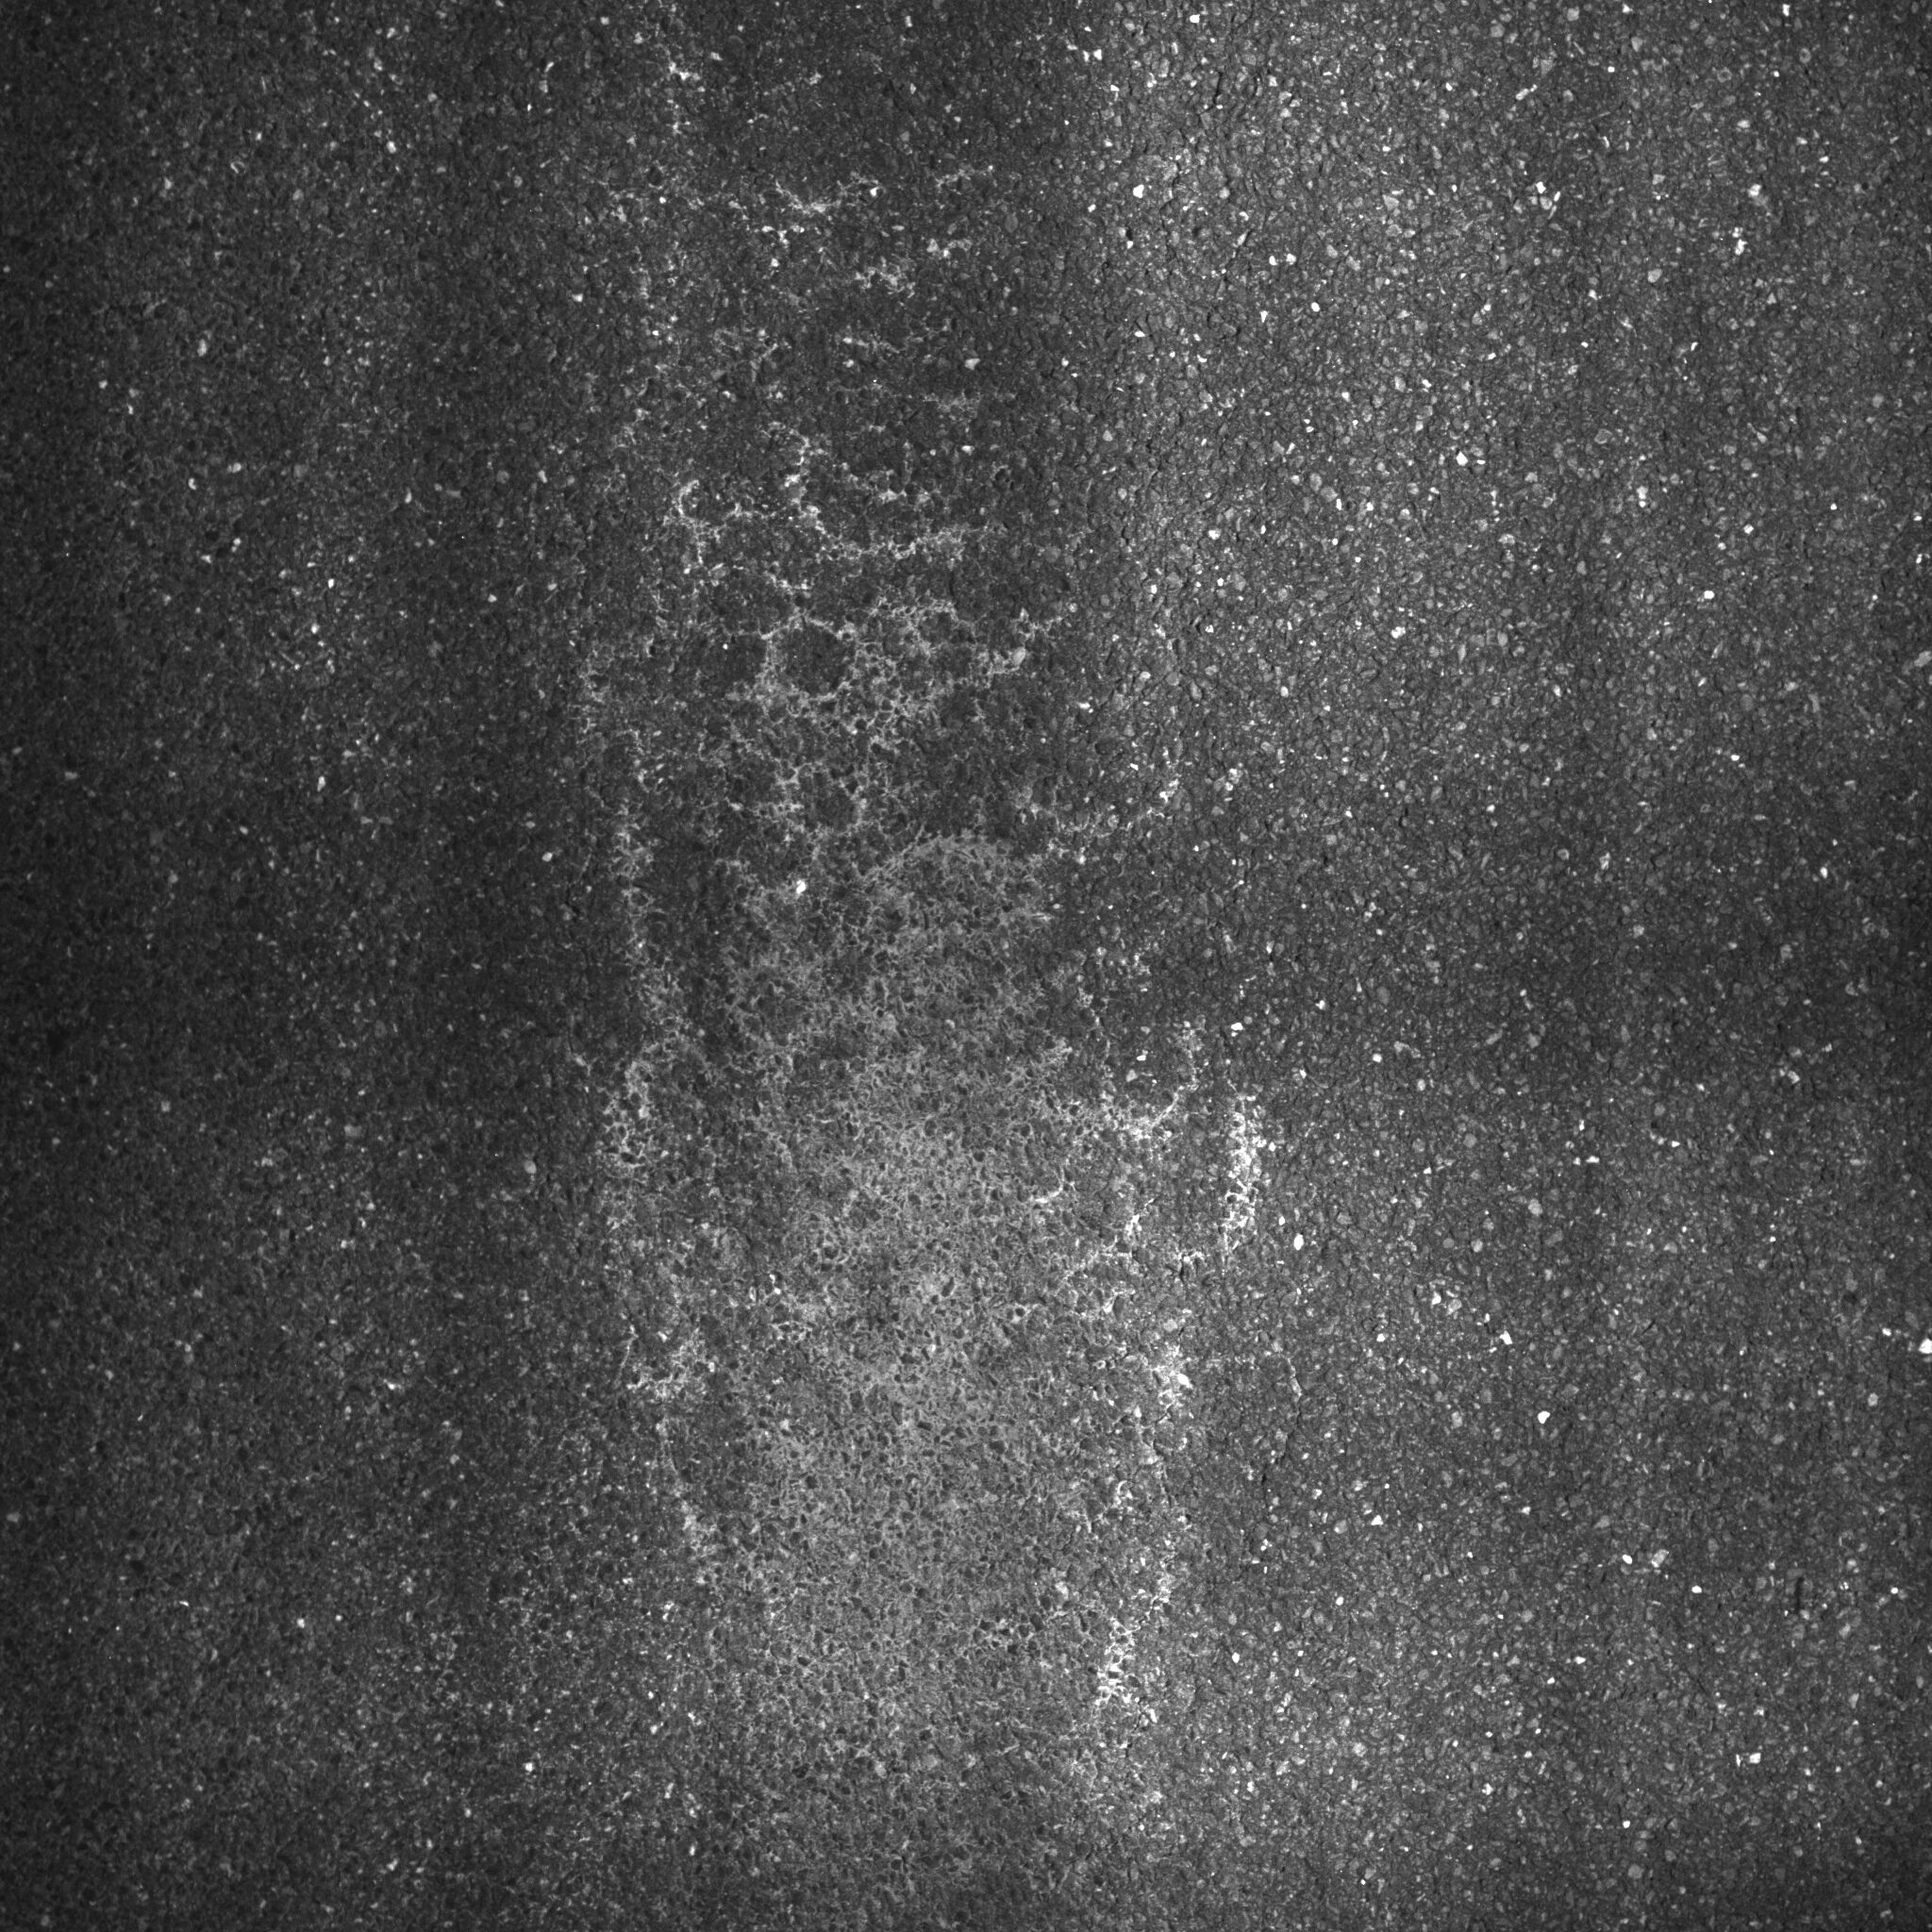alligator: (501, 106, 1304, 1888)
